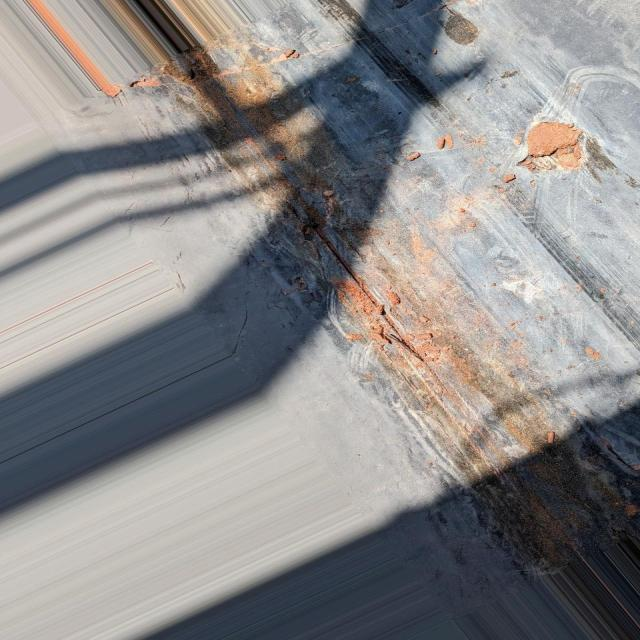Wear: (172, 62, 640, 572)
